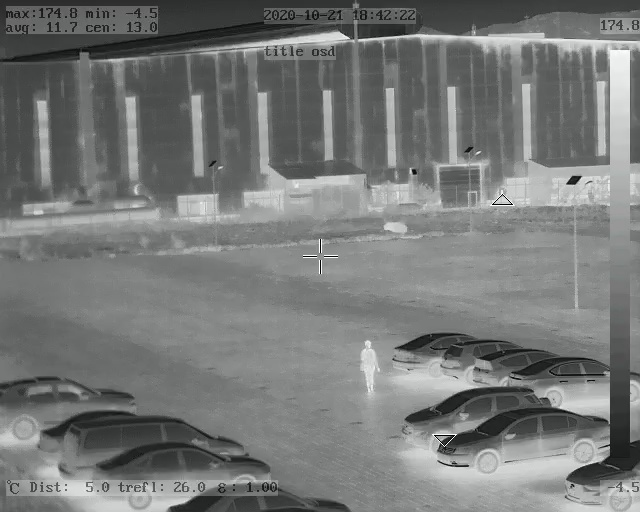person: (358, 338, 380, 395)
vehicle: (439, 405, 609, 472), (89, 447, 271, 507), (61, 419, 249, 472), (1, 376, 139, 437), (403, 386, 523, 443), (558, 442, 640, 507), (503, 359, 610, 403), (386, 329, 456, 372), (463, 347, 520, 386), (441, 341, 492, 379)
